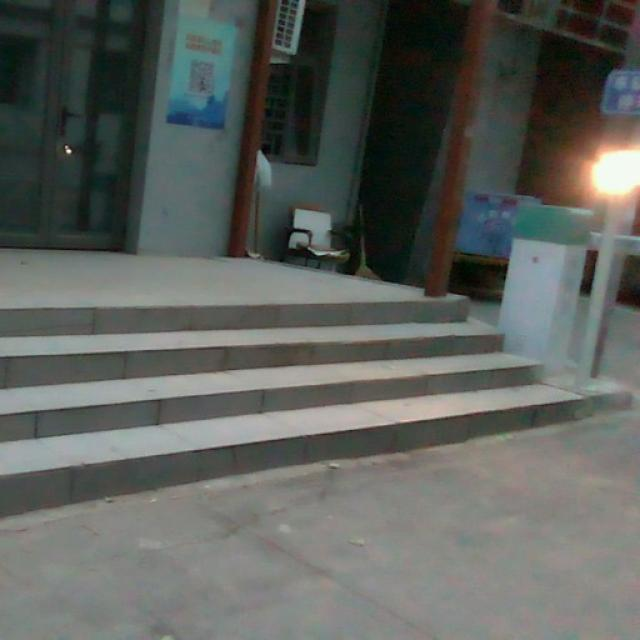stair: (5, 293, 492, 465)
